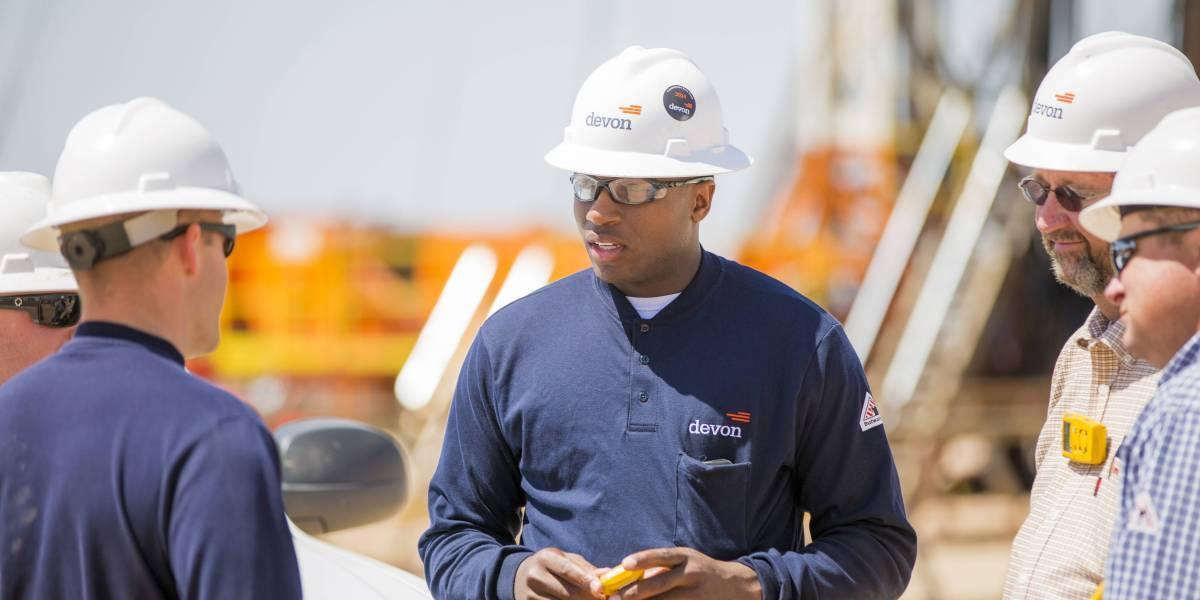helmet: (20, 96, 270, 257), (541, 43, 753, 183), (1004, 30, 1200, 177), (1080, 106, 1200, 247), (1, 170, 84, 301)
